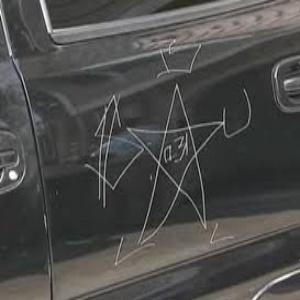door_scratch: (25, 36, 258, 270)
